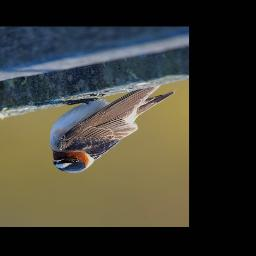Swallow: (48, 82, 176, 173)
